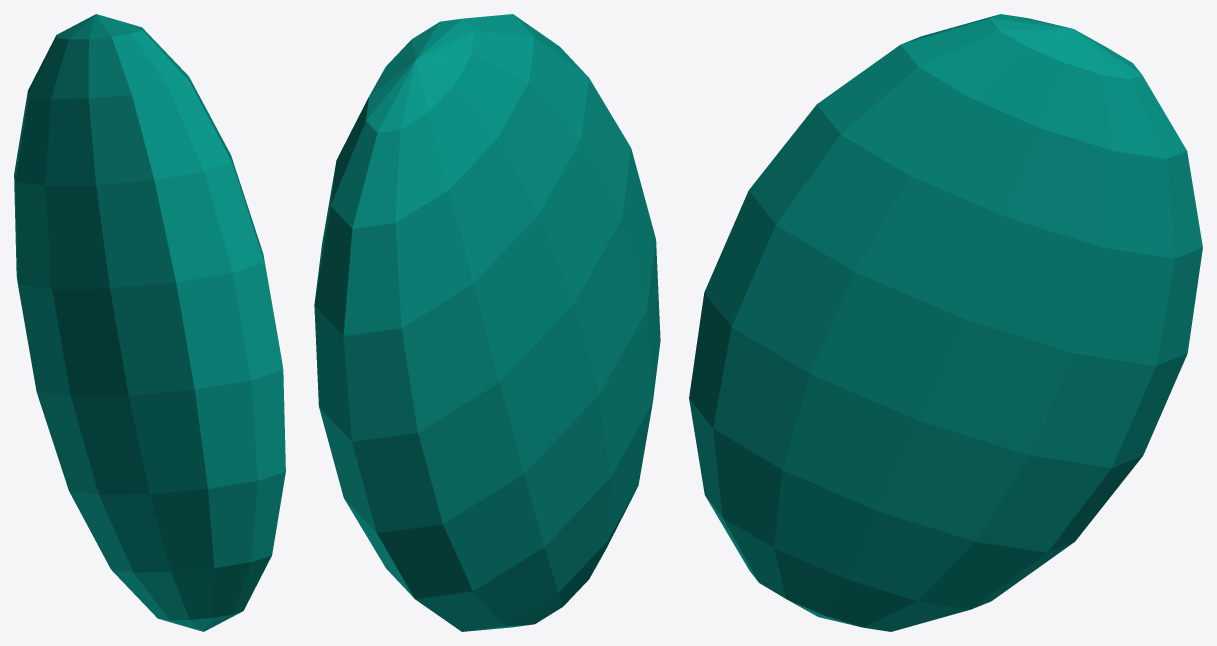
File: n5_n5_group350797390_lev5.glb
3 views of the same model, side by side, from view 1: azimuth 30°, elevation 25°; view 2: azimuth 150°, elevation 25°; view 3: azimuth 270°, elevation 25° (orthographic). The views are drawn at different scales.
Visible parts, largest first — view 1: n5_n5_group350797390_lev5; view 2: n5_n5_group350797390_lev5; view 3: n5_n5_group350797390_lev5.
Boxes of the visible parts, left/top/right/bottom form: n5_n5_group350797390_lev5: left=14, top=14, right=285, bottom=631; n5_n5_group350797390_lev5: left=314, top=14, right=660, bottom=631; n5_n5_group350797390_lev5: left=689, top=14, right=1202, bottom=631.
Size of the model in its own units: 1.61 by 4.85 by 3.7.
